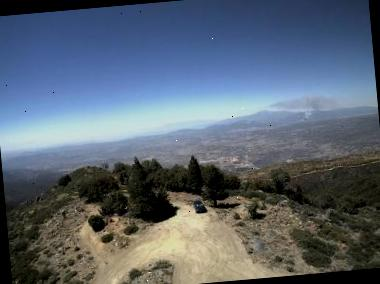smoke: (263, 88, 339, 124)
